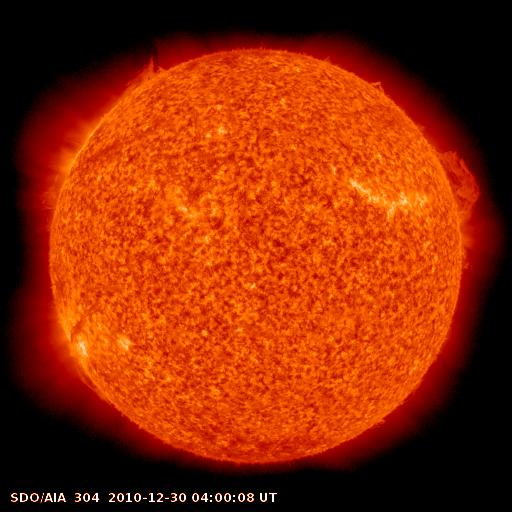prominence: (427, 137, 484, 278), (103, 47, 177, 115), (65, 361, 120, 410), (23, 166, 67, 220), (352, 62, 399, 107)
